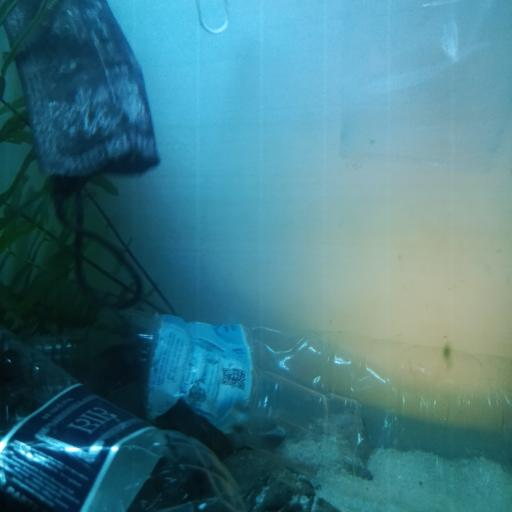mask: (1, 0, 163, 310)
plastic_bottle: (31, 308, 512, 512), (0, 326, 251, 508)
